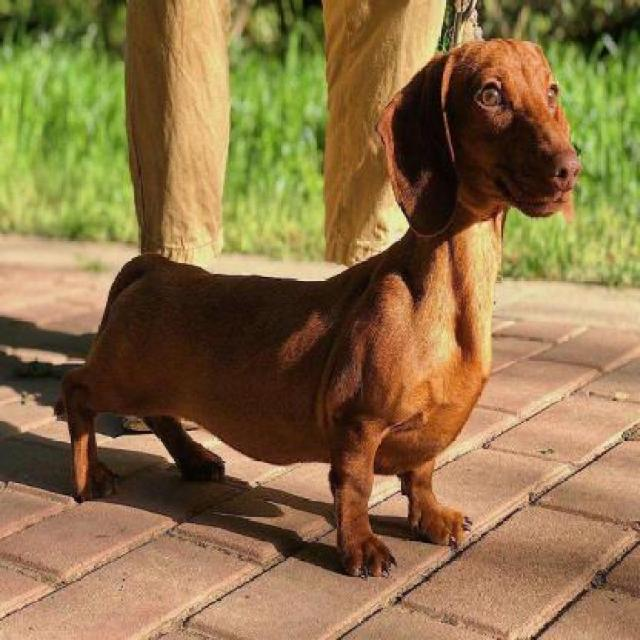Dog: (60, 28, 583, 584)
